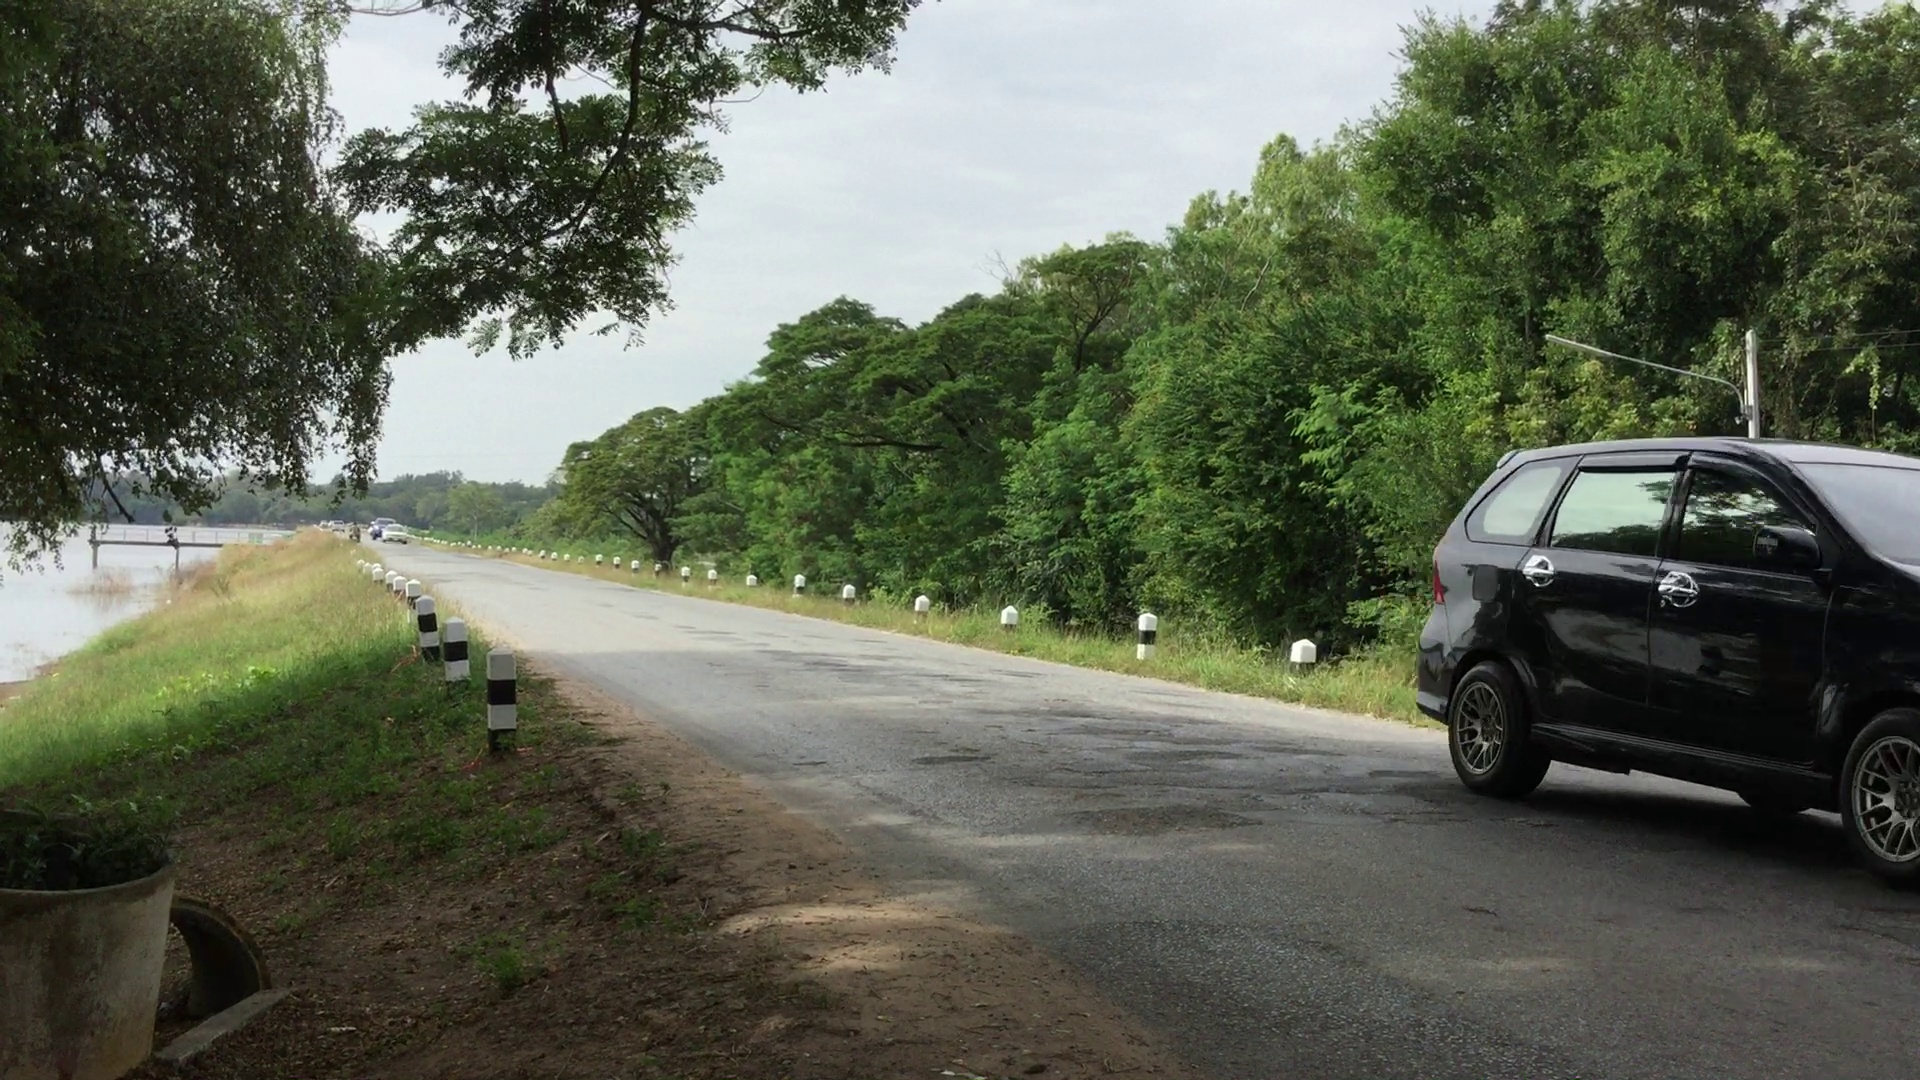car: (1404, 430, 1863, 789)
post: (483, 647, 520, 749), (436, 613, 471, 690)
